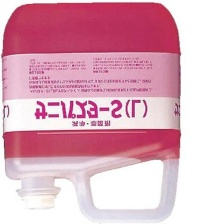cleaning_solution: (0, 1, 182, 222)
